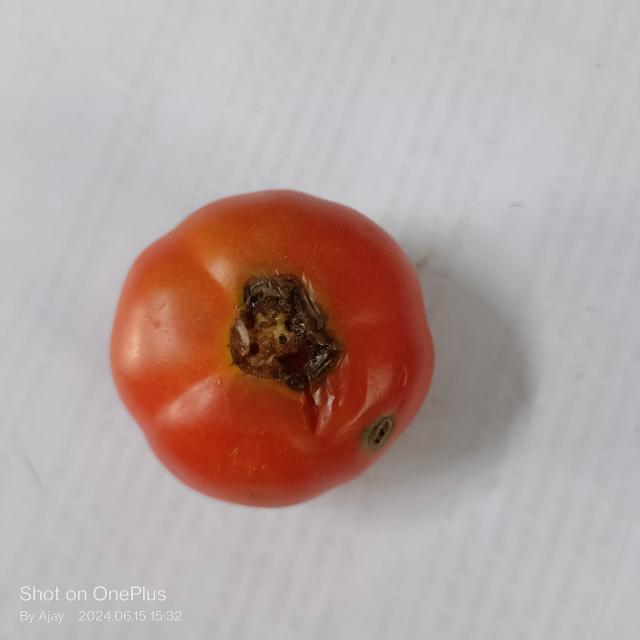Botrytis: (223, 268, 343, 382), (353, 408, 400, 452)
